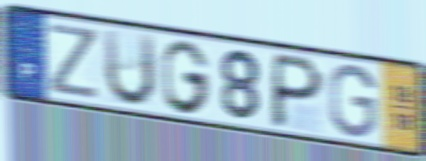8: (219, 46, 263, 123)
G: (160, 37, 212, 116), (328, 62, 379, 141)
P: (268, 50, 327, 132)
U: (100, 26, 158, 110)
Z: (47, 20, 100, 102)
